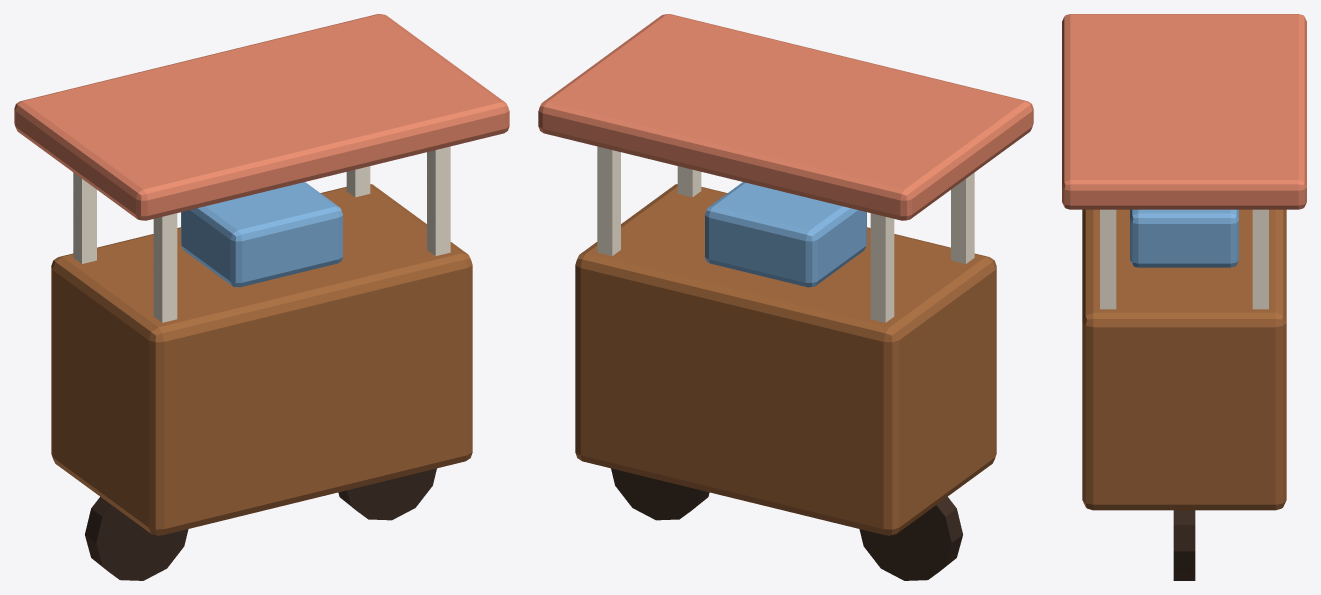
File: prop_gerobakCilok.fbx
3 renders of one model, left to right at view 1: azimuth 30°, elevation 25°; view 2: azimuth 150°, elevation 25°; view 3: azimuth 270°, elevation 25°, orthographic. The views are drawn at different scales.
Visible parts, largest first — view 1: prop_gerobakCilok; view 2: prop_gerobakCilok; view 3: prop_gerobakCilok.
Part boxes in pixels (left/top/right/bottom): prop_gerobakCilok: left=14, top=14, right=509, bottom=580; prop_gerobakCilok: left=538, top=14, right=1033, bottom=580; prop_gerobakCilok: left=1062, top=14, right=1306, bottom=580.
Bounding box in the file's own units: 150 × 171 × 90.
Materials: 1 (1 with a texture image).
